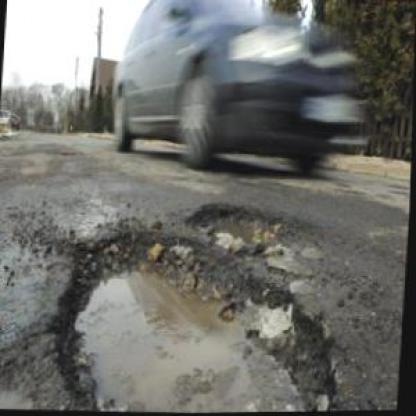pothole: (46, 216, 356, 415), (186, 198, 324, 261)
